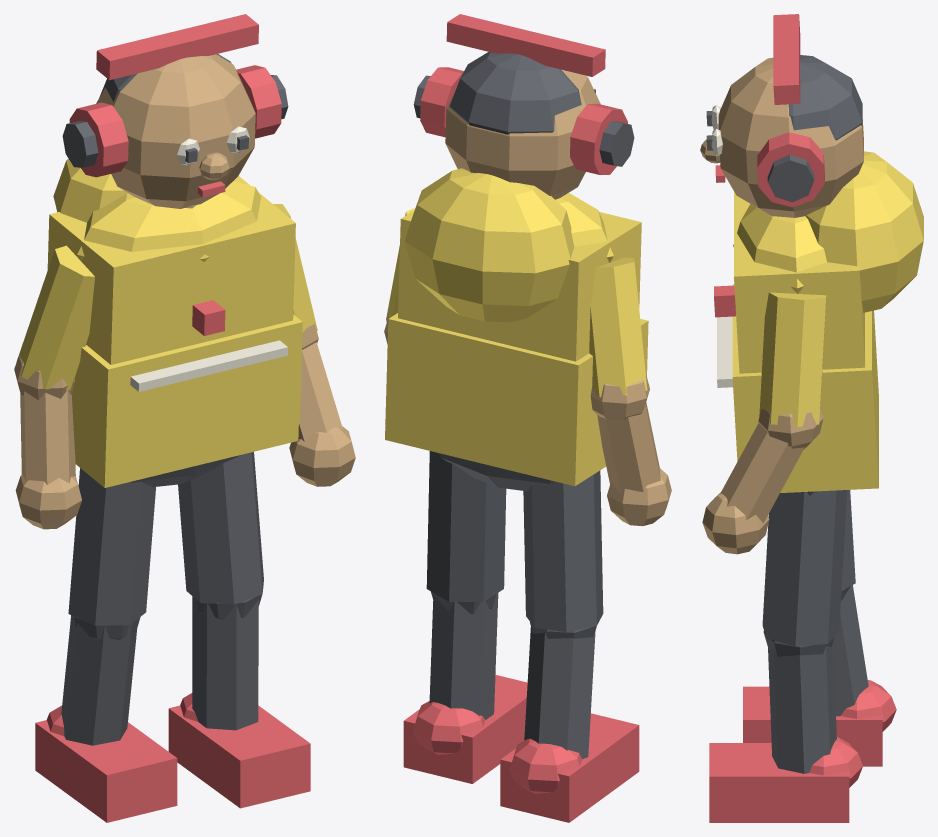
The model's file is lawn-mowing-simulator-kit-teen-with-headphones-standin-5cfbece9__27351.glb.
The picture shows the model from 3 angles, left to right: view 1: azimuth 30°, elevation 25°; view 2: azimuth 150°, elevation 25°; view 3: azimuth 270°, elevation 25°; orthographic projection. The views are drawn at different scales.
Visible parts, largest first — view 1: teen-with-headphones-standing; view 2: teen-with-headphones-standing; view 3: teen-with-headphones-standing.
Part boxes in pixels (<box>): teen-with-headphones-standing: <box>14,14,355,822</box>; teen-with-headphones-standing: <box>384,14,671,822</box>; teen-with-headphones-standing: <box>700,14,923,822</box>.
Size of the model in its own units: 0.7259 by 1.73 by 0.48.
